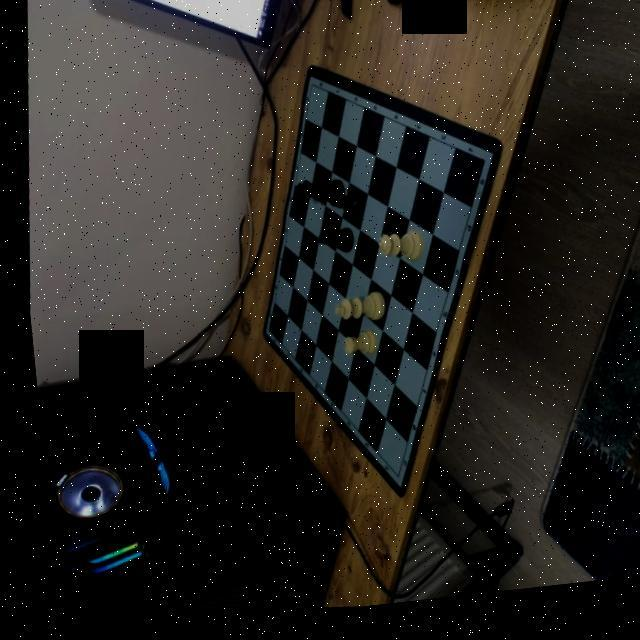chess-table-corners: (303, 82, 315, 102), (473, 162, 485, 180), (256, 325, 266, 344), (382, 474, 392, 490)
